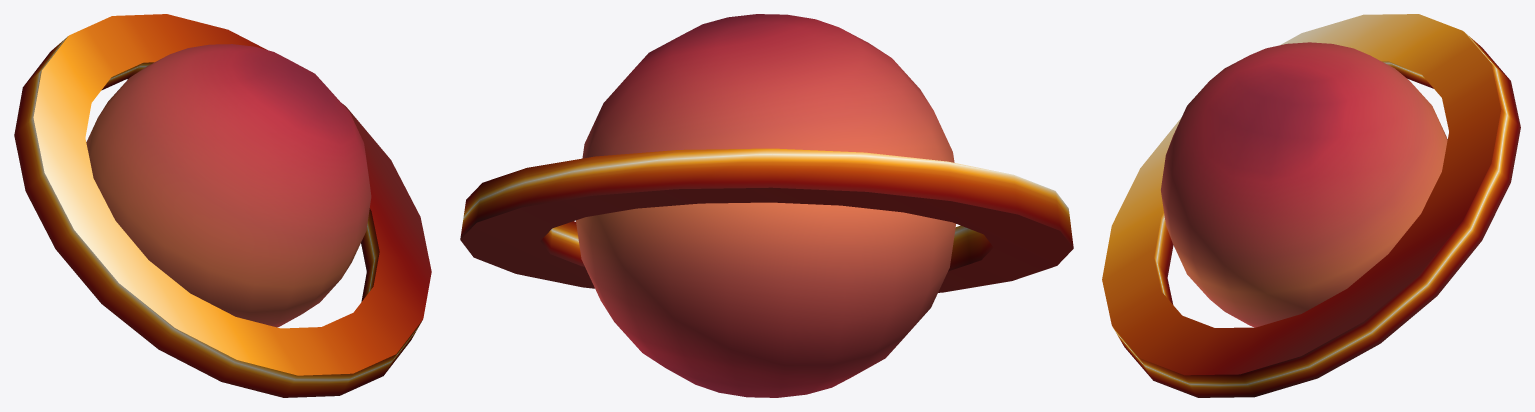
The model's file is column_lev_6.fbx.
The picture shows the model from 3 angles, left to right: view 1: azimuth 30°, elevation 25°; view 2: azimuth 150°, elevation 25°; view 3: azimuth 270°, elevation 25°; orthographic projection. The views are drawn at different scales.
Parts seen in each view (by area): view 1: column_lev_7; view 2: column_lev_7; view 3: column_lev_7.
Boxes of the visible parts, x1,y1,x2,y2 form: column_lev_7: [14, 14, 431, 397]; column_lev_7: [460, 14, 1073, 397]; column_lev_7: [1102, 14, 1520, 397].
Size of the model in its own units: 305 by 205 by 281.
